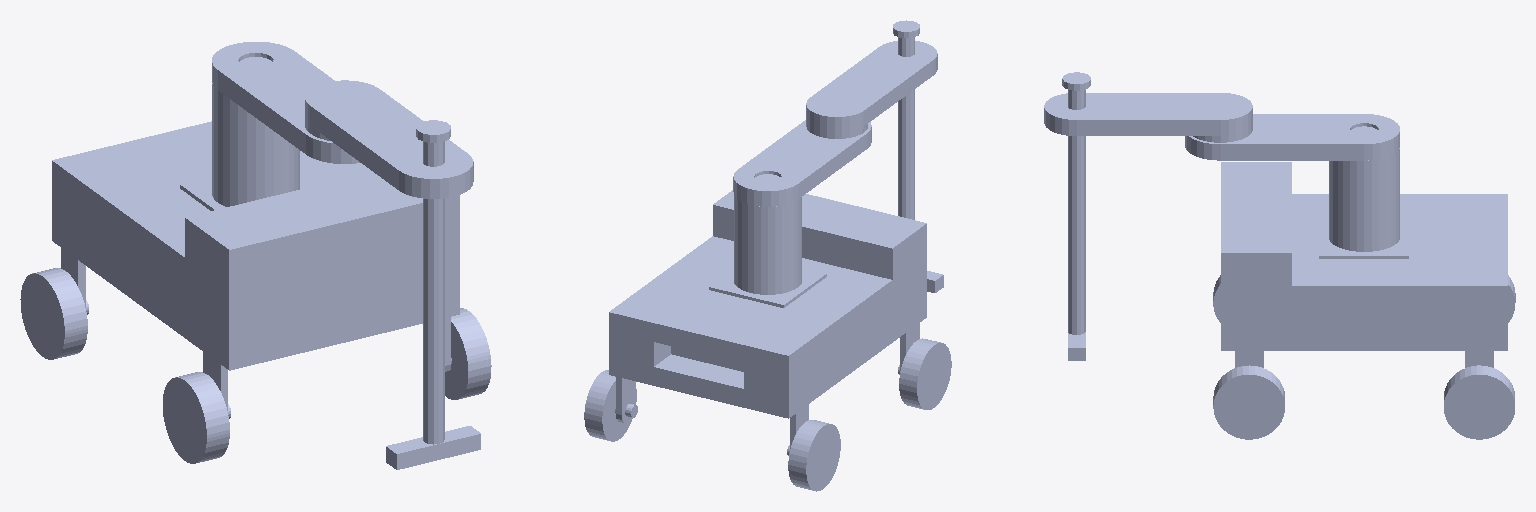
URDF robot description (mobile_manip):
<?xml version="1.0" encoding="utf-8"?>
<!-- This URDF was automatically created by SolidWorks to URDF Exporter! Originally created by [author] ([email redacted]) 
     Commit Version: 1.6.0-4-g7f85cfe  Build Version: 1.6.7995.38578
     For more information, please see http://wiki.ros.org/sw_urdf_exporter -->
<!-- xyz="-2.41969739782871E-19 -0.0191018594248712 -0.0329317379359507"-->
<robot
  name="mobile_manip">
  <link name="dummy">
   </link>
  <link
    name="base_link">
    <inertial>
      <origin
        xyz="-2.41969739782871E-19 -0.02 -0.0329317379359507"
        rpy="0 0 0" />
      <mass
        value="5.5273815405995" />
      <inertia
        ixx="0.20560290907559"
        ixy="-1.5113602757162E-17"
        ixz="-6.06988124226446E-18"
        iyy="0.125767777313915"
        iyz="0.0148314696702359"
        izz="0.288033147607211" />
    </inertial>
    <visual>
      <origin
        xyz="0 0 0"
        rpy="0 0 0" />
      <geometry>
        <mesh
          filename="package://mobile_manip/meshes/base_link.STL" />
      </geometry>
      <material
        name="">
        <color
          rgba="0.792156862745098 0.819607843137255 0.933333333333333 1" />
      </material>
    </visual>
    <collision>
      <origin
        xyz="0 0 0"
        rpy="0 0 0" />
      <geometry>
        <mesh
          filename="package://mobile_manip/meshes/base_link.STL" />
      </geometry>
    </collision>
  </link>
   <joint name="dummy_joint" type="fixed">
     <parent link="dummy"/>
     <child link="base_link"/>
   </joint>
  <link
    name="f_wheel_R">
    <inertial>
      <origin
        xyz="0 1.11022302462516E-16 0.0890528324628364"
        rpy="0 0 0" />
      <mass
        value="0.244357003587031" />
      <inertia
        ixx="0.000171588418782318"
        ixy="1.6940658945086E-21"
        ixz="-5.97059305247687E-20"
        iyy="0.000171588418782318"
        iyz="4.03653684712227E-20"
        izz="0.000295030218137888" />
    </inertial>
    <visual>
      <origin
        xyz="0 0 0"
        rpy="0 0 0" />
      <geometry>
        <mesh
          filename="package://mobile_manip/meshes/f_wheel_R.STL" />
      </geometry>
      <material
        name="">
        <color
          rgba="0.792156862745098 0.819607843137255 0.933333333333333 1" />
      </material>
    </visual>
    <collision>
      <origin
        xyz="0 0 0"
        rpy="0 0 0" />
      <geometry>
        <mesh
          filename="package://mobile_manip/meshes/f_wheel_R.STL" />
      </geometry>
    </collision>
  </link>
  <joint
    name="f_wheel_J_R"
    type="continuous">
    <origin
      xyz="0.08 0.16 -0.17"
      rpy="1.5707963267949 -1.54843652809113 1.5707963267949" />
    <parent
      link="base_link" />
    <child
      link="f_wheel_R" />
    <axis
      xyz="0 0 1" />
    <limit
      lower="0"
      upper="0"
      effort="30"
      velocity="5" />
  </joint>
  <link
    name="f_wheel_L">
    <inertial>
      <origin
        xyz="8.32667268468867E-17 5.55111512312578E-17 0.0890528324628365"
        rpy="0 0 0" />
      <mass
        value="0.244357003587031" />
      <inertia
        ixx="0.000171588418782318"
        ixy="-1.27054942088145E-21"
        ixz="-3.4523232358371E-20"
        iyy="0.000171588418782318"
        iyz="4.44274079055922E-20"
        izz="0.000295030218137888" />
    </inertial>
    <visual>
      <origin
        xyz="0 0 0"
        rpy="0 0 0" />
      <geometry>
        <mesh
          filename="package://mobile_manip/meshes/f_wheel_L.STL" />
      </geometry>
      <material
        name="">
        <color
          rgba="0.792156862745098 0.819607843137255 0.933333333333333 1" />
      </material>
    </visual>
    <collision>
      <origin
        xyz="0 0 0"
        rpy="0 0 0" />
      <geometry>
        <mesh
          filename="package://mobile_manip/meshes/f_wheel_L.STL" />
      </geometry>
    </collision>
  </link>
  <joint
    name="f_wheel_J_L"
    type="continuous">
    <origin
      xyz="-0.0799999999999999 0.16 -0.17"
      rpy="1.5707963267949 0.0415388760057485 -1.5707963267949" />
    <parent
      link="base_link" />
    <child
      link="f_wheel_L" />
    <axis
      xyz="0 0 -1" />
    <limit
      lower="0"
      upper="0"
      effort="30"
      velocity="5" />
  </joint>
  <link
    name="link_1">
    <inertial>
      <origin
        xyz="0.1 0.0125 5.02084334937759E-17"
        rpy="0 0 0" />
      <mass
        value="0.633517687777566" />
      <inertia
        ixx="0.00056609765729542"
        ixy="-2.04267009074416E-19"
        ixz="-1.64204152262839E-18"
        iyy="0.00448471409988967"
        iyz="1.42007914466878E-19"
        izz="0.00398460786840442" />
    </inertial>
    <visual>
      <origin
        xyz="0 0 0"
        rpy="0 0 0" />
      <geometry>
        <mesh
          filename="package://mobile_manip/meshes/link_1.STL" />
      </geometry>
      <material
        name="">
        <color
          rgba="0.792156862745098 0.819607843137255 0.933333333333333 1" />
      </material>
    </visual>
    <collision>
      <origin
        xyz="0 0 0"
        rpy="0 0 0" />
      <geometry>
        <mesh
          filename="package://mobile_manip/meshes/link_1.STL" />
      </geometry>
    </collision>
  </link>
  <joint
    name="shoul_J"
    type="continuous">
    <origin
      xyz="0 0 0.145"
      rpy="-1.5707963267949 3.1416 1.5707963267949" />
    <parent
      link="base_link" />
    <child
      link="link_1" />
    <axis
      xyz="0 1 0" />
    <limit
      lower="-2.618"
      upper="2.618"
      effort="30"
      velocity="2" />
  </joint>
  <link
    name="link_2">
    <inertial>
      <origin
        xyz="0.0852635005561722 0.0396844550139392 1.02192256073492E-16"
        rpy="0 0 0" />
      <mass
        value="0.68552127424881" />
      <inertia
        ixx="0.000491550374278397"
        ixy="-0.000164568445492617"
        ixz="-1.96890508893061E-19"
        iyy="0.0048471033597257"
        iyz="-9.01298259628136E-20"
        izz="0.00450164228968607" />
    </inertial>
    <visual>
      <origin
        xyz="0 0 0"
        rpy="0 0 0" />
      <geometry>
        <mesh
          filename="package://mobile_manip/meshes/link_2.STL" />
      </geometry>
      <material
        name="">
        <color
          rgba="0.792156862745098 0.819607843137255 0.933333333333333 1" />
      </material>
    </visual>
    <collision>
      <origin
        xyz="0 0 0"
        rpy="0 0 0" />
      <geometry>
        <mesh
          filename="package://mobile_manip/meshes/link_2.STL" />
      </geometry>
    </collision>
  </link>
  <joint
    name="elbow_J"
    type="continuous">
    <origin
      xyz="0.2 0.00500000000000003 0"
      rpy="0 0 0" />
    <parent
      link="link_1" />
    <child
      link="link_2" />
    <axis
      xyz="0 1 0" />
    <limit
      lower="-2.618"
      upper="2.618"
      effort="30"
      velocity="2" />
  </joint>
  <link
    name="shaft_P">
    <inertial>
      <origin
        xyz="-1.33226762955019E-15 0.208084878048781 1.97217202737557E-16"
        rpy="0 0 0" />
      <mass
        value="0.201258279370596" />
      <inertia
        ixx="0.00279263580124955"
        ixy="1.4967442935888E-17"
        ixz="4.74257547431639E-33"
        iyy="1.71664722010706E-05"
        iyz="-8.81397027806147E-19"
        izz="0.00279263580124955" />
    </inertial>
    <visual>
      <origin
        xyz="0 0 0"
        rpy="0 0 0" />
      <geometry>
        <mesh
          filename="package://mobile_manip/meshes/shaft_P.STL" />
      </geometry>
      <material
        name="">
        <color
          rgba="0.792156862745098 0.819607843137255 0.933333333333333 1" />
      </material>
    </visual>
    <collision>
      <origin
        xyz="0 0 0"
        rpy="0 0 0" />
      <geometry>
        <mesh
          filename="package://mobile_manip/meshes/shaft_P.STL" />
      </geometry>
    </collision>
  </link>
  <joint
    name="shaft_PJ"
    type="prismatic">
    <origin
      xyz="0.2 -0.3 0"
      rpy="0 0 0" />
    <parent
      link="link_2" />
    <child
      link="shaft_P" />
    <axis
      xyz="0 1 0" />
    <limit
      lower="0"
      upper="0.4"
      effort="30"
      velocity="2" />
  </joint>
  <link
    name="shaft_R">
    <inertial>
      <origin
        xyz="1.73500672163726E-16 -0.000302900996612038 5.55111512312578E-17"
        rpy="0 0 0" />
      <mass
        value="0.0518584073464101" />
      <inertia
        ixx="4.50989913747864E-06"
        ixy="2.21361194499618E-20"
        ixz="-3.06294620723412E-19"
        iyy="5.81658370339871E-05"
        iyz="5.35505609512498E-21"
        izz="5.71036491374786E-05" />
    </inertial>
    <visual>
      <origin
        xyz="0 0 0"
        rpy="0 0 0" />
      <geometry>
        <mesh
          filename="package://mobile_manip/meshes/shaft_R.STL" />
      </geometry>
      <material
        name="">
        <color
          rgba="0.792156862745098 0.819607843137255 0.933333333333333 1" />
      </material>
    </visual>
    <collision>
      <origin
        xyz="0 0 0"
        rpy="0 0 0" />
      <geometry>
        <mesh
          filename="package://mobile_manip/meshes/shaft_R.STL" />
      </geometry>
    </collision>
  </link>
  <joint
    name="shaft_RJ"
    type="continuous">
    <origin
      xyz="0 0 0"
      rpy="3.1416 -1.5708 0" />
    <parent
      link="shaft_P" />
    <child
      link="shaft_R" />
    <axis
      xyz="0 -1 0" />
    <limit
      lower="-3.1416"
      upper="3.1416"
      effort="30"
      velocity="2" />
  </joint>
  <link
    name="b_wheel_R">
    <inertial>
      <origin
        xyz="-8.32667268468867E-17 -5.55111512312578E-17 0.0890528324628364"
        rpy="0 0 0" />
      <mass
        value="0.244357003587031" />
      <inertia
        ixx="0.000171588418782318"
        ixy="-1.01643953670516E-20"
        ixz="-2.48055386540738E-21"
        iyy="0.000171588418782318"
        iyz="5.59825477059003E-20"
        izz="0.000295030218137888" />
    </inertial>
    <visual>
      <origin
        xyz="0 0 0"
        rpy="0 0 0" />
      <geometry>
        <mesh
          filename="package://mobile_manip/meshes/b_wheel_R.STL" />
      </geometry>
      <material
        name="">
        <color
          rgba="0.792156862745098 0.819607843137255 0.933333333333333 1" />
      </material>
    </visual>
    <collision>
      <origin
        xyz="0 0 0"
        rpy="0 0 0" />
      <geometry>
        <mesh
          filename="package://mobile_manip/meshes/b_wheel_R.STL" />
      </geometry>
    </collision>
  </link>
  <joint
    name="b_wheel_J_R"
    type="continuous">
    <origin
      xyz="0.08 -0.16 -0.17"
      rpy="-1.5708 -0.29853 -1.5708" />
    <parent
      link="base_link" />
    <child
      link="b_wheel_R" />
    <axis
      xyz="0 0 1" />
    <limit
      lower="0"
      upper="0"
      effort="30"
      velocity="5" />
  </joint>
  <link
    name="b_wheel_L">
    <inertial>
      <origin
        xyz="-8.32667268468867E-17 8.32667268468867E-17 0.0890528324628365"
        rpy="0 0 0" />
      <mass
        value="0.244357003587031" />
      <inertia
        ixx="0.000171588418782318"
        ixy="2.11758236813575E-21"
        ixz="-2.95593217358028E-20"
        iyy="0.000171588418782318"
        iyz="4.90932541835534E-20"
        izz="0.000295030218137888" />
    </inertial>
    <visual>
      <origin
        xyz="0 0 0"
        rpy="0 0 0" />
      <geometry>
        <mesh
          filename="package://mobile_manip/meshes/b_wheel_L.STL" />
      </geometry>
      <material
        name="">
        <color
          rgba="0.792156862745098 0.819607843137255 0.933333333333333 1" />
      </material>
    </visual>
    <collision>
      <origin
        xyz="0 0 0"
        rpy="0 0 0" />
      <geometry>
        <mesh
          filename="package://mobile_manip/meshes/b_wheel_L.STL" />
      </geometry>
    </collision>
  </link>
  <joint
    name="b_wheel_J_L"
    type="continuous">
    <origin
      xyz="-0.0799999999999999 -0.16 -0.17"
      rpy="1.5707963267949 0.0415388760057485 -1.5707963267949" />
    <parent
      link="base_link" />
    <child
      link="b_wheel_L" />
    <axis
      xyz="0 0 -1" />
    <limit
      lower="0"
      upper="0"
      effort="30"
      velocity="5" />
  </joint>
  
  <!-- ROS Control plugin for Gazebo -->
  
  <gazebo>
    <plugin name="gazebo_ros_control" filename="libgazebo_ros_control.so">
      <robotNamespace>/simple_model</robotNamespace>
      <robotSimType>gazebo_ros_control/DefaultRobotHWSim</robotSimType>
      <legacyModeNS>true</legacyModeNS>
    </plugin>
    <plugin name="skid_steer_drive_controller" filename="libgazebo_ros_skid_steer_drive.so">
	    <updateRate>50</updateRate>
	    <robotNamespace>/</robotNamespace>
	    <leftFrontJoint>f_wheel_J_L</leftFrontJoint>
	    <rightFrontJoint>f_wheel_J_R</rightFrontJoint>
	    <leftRearJoint>b_wheel_J_L</leftRearJoint>
	    <rightRearJoint>b_wheel_J_R</rightRearJoint>
	    <wheelSeparation>0.24</wheelSeparation>
	    <wheelDiameter>0.1</wheelDiameter>
	    <robotBaseFrame>base_link</robotBaseFrame>
	    <torque>20</torque>
	    <topicName>cmd_vel</topicName>
	    <broadcastTF>false</broadcastTF>
   </plugin>
   <plugin name="imu_plugin" filename="libgazebo_ros_imu.so">
      <alwaysOn>true</alwaysOn>
      <bodyName>base_link</bodyName>
      <topicName>imu</topicName>
      <serviceName>imu_service</serviceName>
      <gaussianNoise>0.0</gaussianNoise>
      <updateRate>20.0</updateRate>
    </plugin>
  </gazebo> 
  <!-- transmissions -->
  
  <transmission name="shoul_J_tran">
    <type>transmission_interface/SimpleTransmission</type>
    <actuator name="motor1">
      <!--<hardwareInterface>hardware_interface/EffortJointInterface</hardwareInterface> -->
      <mechanicalReduction>1</mechanicalReduction>
    </actuator>
    <joint name="shoul_J">
      <!-- <hardwareInterface>hardware_interface/EffortJointInterface</hardwareInterface> -->
      <hardwareInterface>hardware_interface/VelocityJointInterface</hardwareInterface>
    </joint> 
  </transmission>

  <transmission name="elbow_J_tran">
    <type>transmission_interface/SimpleTransmission</type>
    <actuator name="motor2">
      <mechanicalReduction>1</mechanicalReduction>
    </actuator>
    <joint name="elbow_J">
      <hardwareInterface>hardware_interface/VelocityJointInterface</hardwareInterface>
    </joint>
  </transmission>

  <transmission name="shaft_RJ_tran">
    <type>transmission_interface/SimpleTransmission</type>
    <actuator name="motor3">
      <mechanicalReduction>1</mechanicalReduction>
    </actuator>
    <joint name="shaft_RJ">
      <hardwareInterface>hardware_interface/VelocityJointInterface</hardwareInterface>
    </joint>
  </transmission>

  <transmission name="shaft_PJ_tran">
    <type>transmission_interface/SimpleTransmission</type>
    <actuator name="motor4">
      <mechanicalReduction>1</mechanicalReduction>
    </actuator>
    <joint name="shaft_PJ">
      <hardwareInterface>hardware_interface/VelocityJointInterface</hardwareInterface>
    </joint>
  </transmission>
</robot>

--- Facts derived from the render (not from the file) ---
3 views of the same robot in one strip: view 1: azimuth 30°, elevation 25°; view 2: azimuth 150°, elevation 25°; view 3: azimuth 270°, elevation 25° (orthographic).
Model mobile_manip with 10 links and 9 joints (7 continuous, 1 prismatic, 1 fixed), rooted at dummy, posed all joints at 0.
Visible links, largest first — view 1: base_link, link_2, link_1, shaft_P, f_wheel_L, b_wheel_L, b_wheel_R, shaft_R; view 2: base_link, link_2, link_1, f_wheel_L, b_wheel_L, shaft_P, f_wheel_R; view 3: base_link, link_2, link_1, shaft_P, b_wheel_R, f_wheel_R.
Boxes of the visible links, box(x1,y1,x2,y2) form: base_link: box(52, 57, 459, 410); link_2: box(305, 80, 473, 198); link_1: box(212, 42, 359, 163); shaft_P: box(416, 120, 450, 444); f_wheel_L: box(20, 268, 88, 359); b_wheel_L: box(163, 372, 230, 463); b_wheel_R: box(445, 308, 491, 399); shaft_R: box(386, 426, 480, 469); base_link: box(609, 174, 926, 448); link_2: box(806, 41, 937, 138); link_1: box(733, 120, 871, 206); f_wheel_L: box(787, 420, 840, 491); b_wheel_L: box(898, 338, 951, 409); shaft_P: box(893, 20, 919, 219); f_wheel_R: box(584, 370, 637, 441); base_link: box(1221, 126, 1507, 367); link_2: box(1044, 93, 1252, 142); link_1: box(1185, 114, 1399, 160); shaft_P: box(1062, 72, 1090, 334); b_wheel_R: box(1213, 365, 1284, 439); f_wheel_R: box(1444, 365, 1514, 439).
Bounding box of the posed robot: 0.37 × 0.6546 × 0.468 m (x, y, z).
9 mesh visuals loaded from 9 distinct referenced files (9 binary STL).
